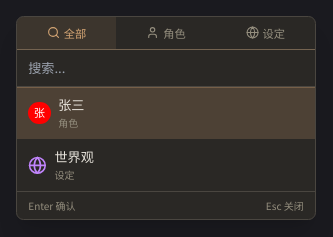
Test: MentionPanel › 点击"角色" tab 仅显示角色条目
Note: tab 按钮：用 getAllByText 取第一个（tab 区在顶部，先渲染）
Click the button "角色". click: (166, 33)
box: [116, 17, 216, 49]
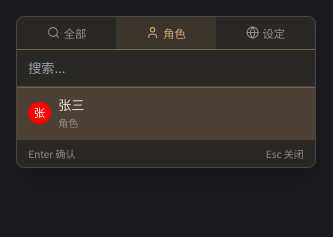
Expected: the text "张三" is shown, [58, 95, 84, 114]
Expected: the button "世界观" is gone
